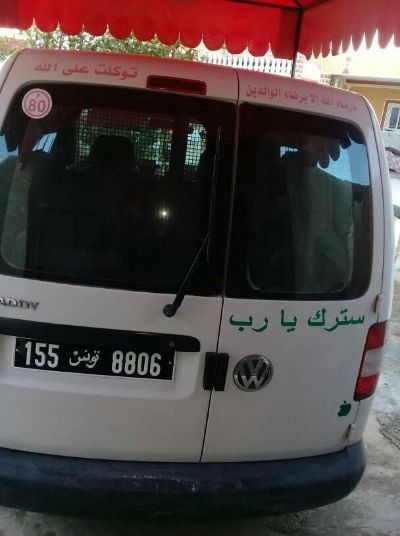LP: (12, 333, 176, 382)
